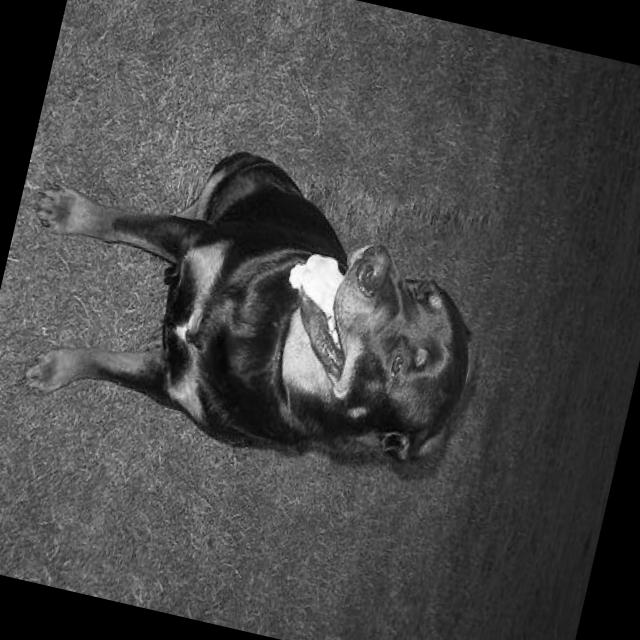sitting: (0, 94, 510, 515)
